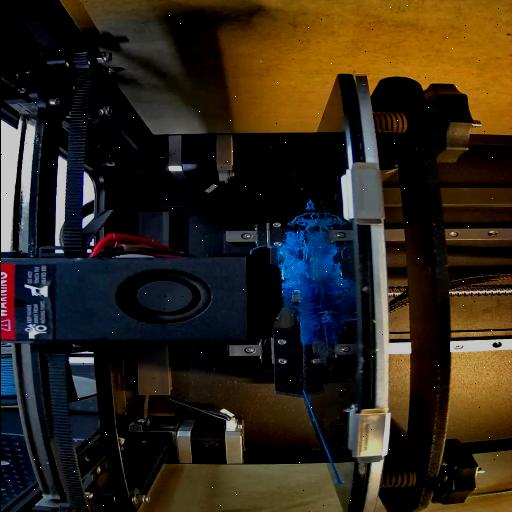spaghetti: (282, 218, 310, 298), (296, 298, 332, 332)
